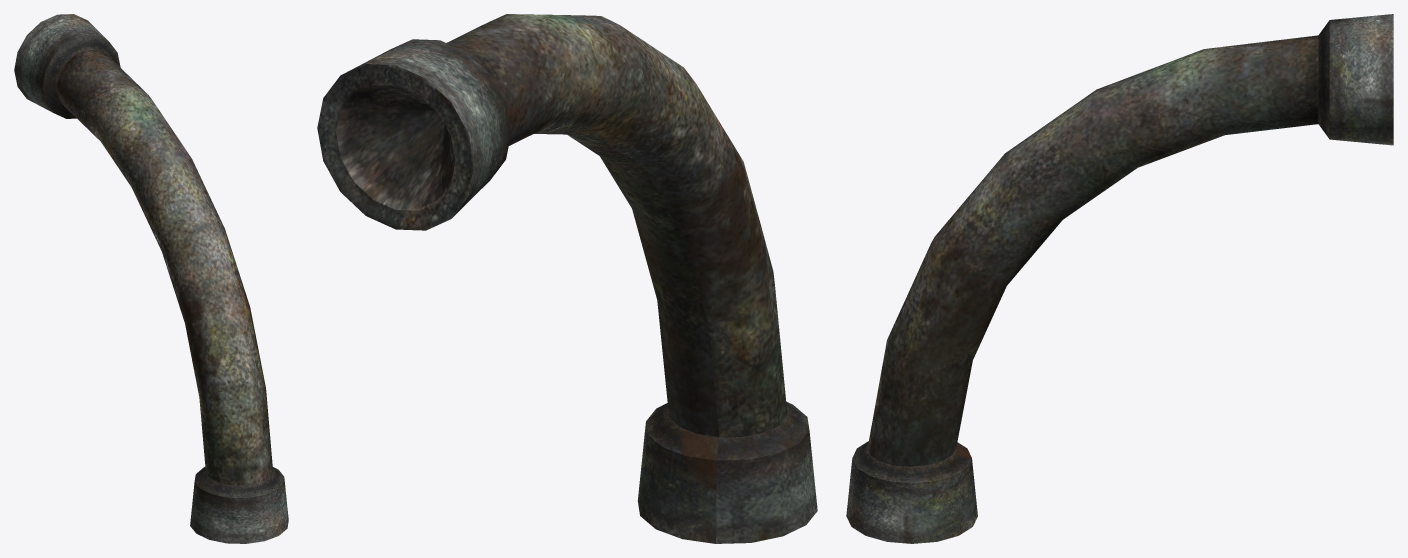
Rendered from pipe_small_90_pplant.dae.
The picture shows the model from 3 angles, left to right: view 1: azimuth 30°, elevation 25°; view 2: azimuth 150°, elevation 25°; view 3: azimuth 270°, elevation 25°; orthographic projection. The views are drawn at different scales.
Parts seen in each view (by area): view 1: pipe_small_90_pplant; view 2: pipe_small_90_pplant; view 3: pipe_small_90_pplant.
Part boxes in pixels (bbox=[...]): pipe_small_90_pplant: bbox=[14, 14, 288, 543]; pipe_small_90_pplant: bbox=[317, 14, 817, 543]; pipe_small_90_pplant: bbox=[846, 14, 1393, 543].
Size of the model in its own units: 0.2051 by 0.8525 by 0.8525.
